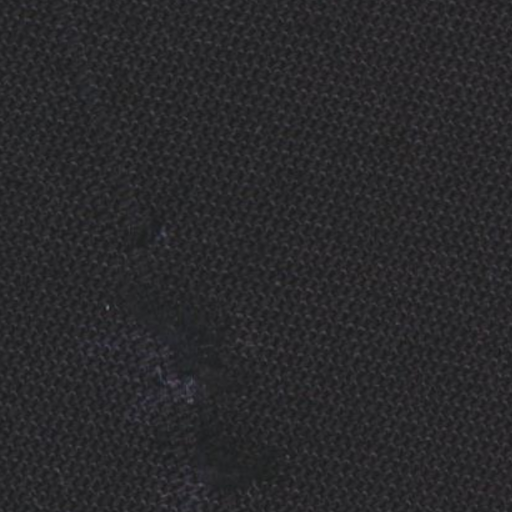DaiSha: (129, 259, 252, 436)
